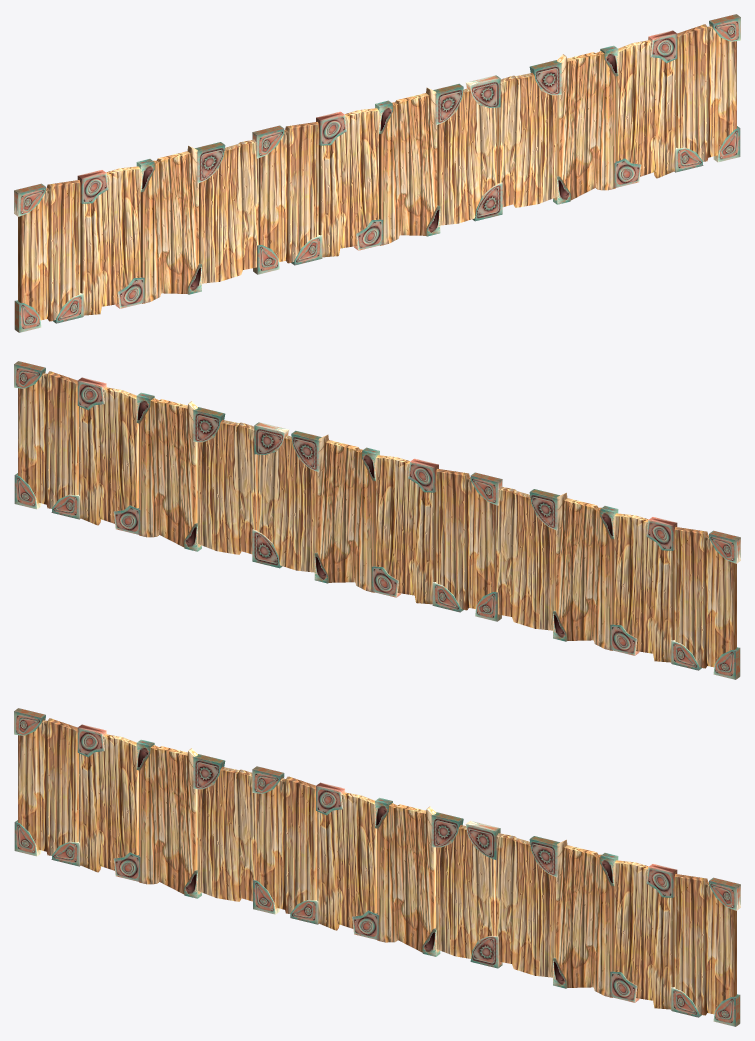
The model's file is 45cdd02a-9598-4f66-82f6-efb0dd87ca3b.glb.
3 views of the same model, one above another, from view 1: azimuth 30°, elevation 25°; view 2: azimuth 150°, elevation 25°; view 3: azimuth 330°, elevation 25° (orthographic).
Visible parts, largest first — view 1: steampunkWall; view 2: steampunkWall; view 3: steampunkWall.
Part boxes in pixels (<box>): steampunkWall: <box>14,14,740,332</box>; steampunkWall: <box>14,361,740,679</box>; steampunkWall: <box>14,708,740,1026</box>.
Size of what is drawn, in the model's own units: 15.87 by 3.05 by 0.1687.
Materials: 1 (1 with a texture image).
